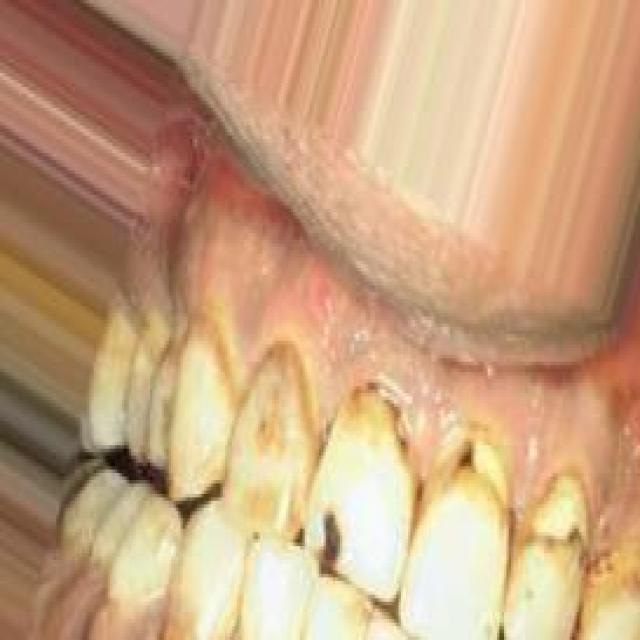caries: (525, 466, 597, 555), (349, 366, 416, 461), (436, 426, 504, 501), (316, 502, 362, 579)
